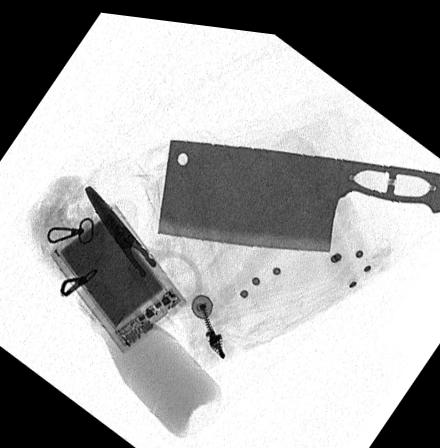Knife: (156, 134, 440, 244)
Powerbank: (47, 199, 186, 348)
Scissors: (83, 179, 205, 324)
